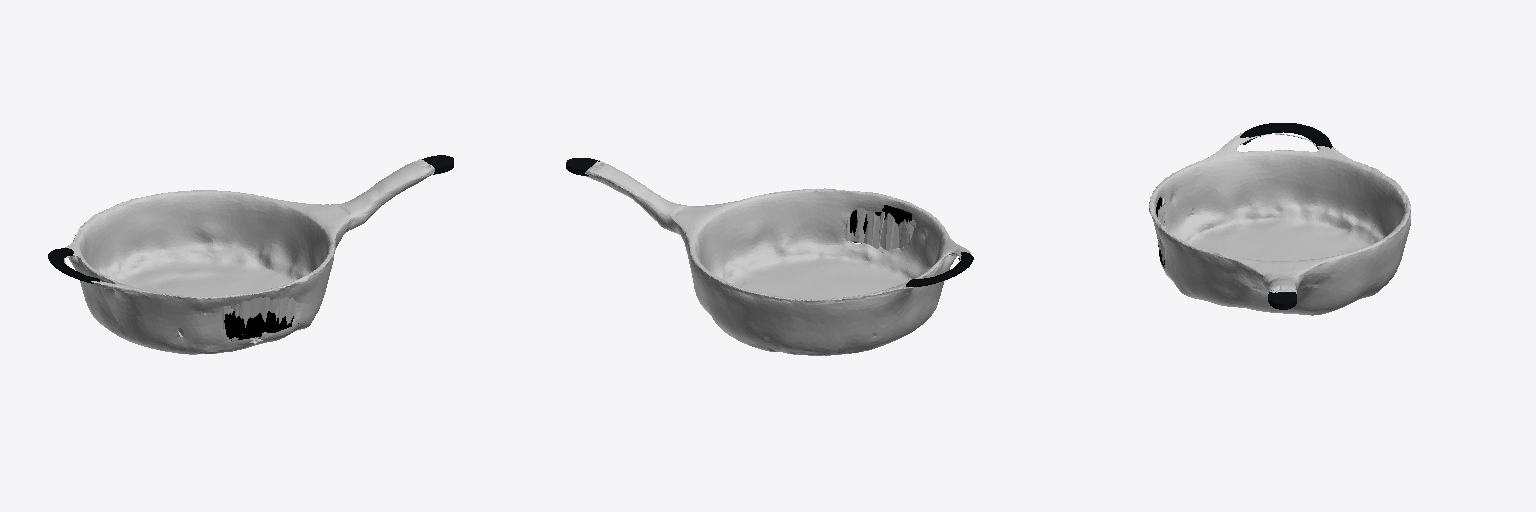
File: Pan.obj
3 renders of one model, left to right at view 1: azimuth 30°, elevation 25°; view 2: azimuth 150°, elevation 25°; view 3: azimuth 270°, elevation 25°, orthographic.
Parts seen in each view (by area): view 1: Cylinder.001; view 2: Cylinder.001; view 3: Cylinder.001.
Boxes of the visible parts, x1,y1,x2,y2 form: Cylinder.001: [48, 155, 453, 354]; Cylinder.001: [566, 158, 973, 355]; Cylinder.001: [1149, 123, 1410, 315].
Size of the model in its own units: 0.507 by 0.1239 by 0.2903.